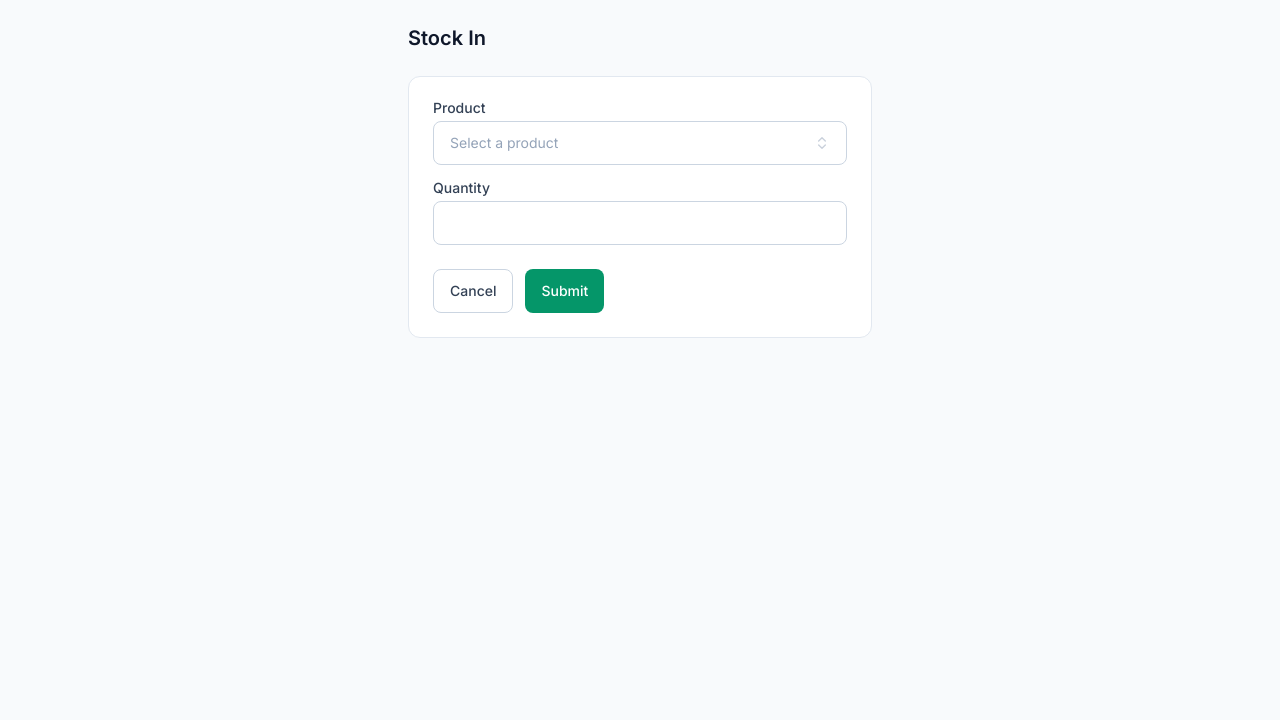
it: StockInPage › shows quantity validation error for zero value
Click the dropdown labelled "Select a product" at (504, 142), box [433,121,847,165]
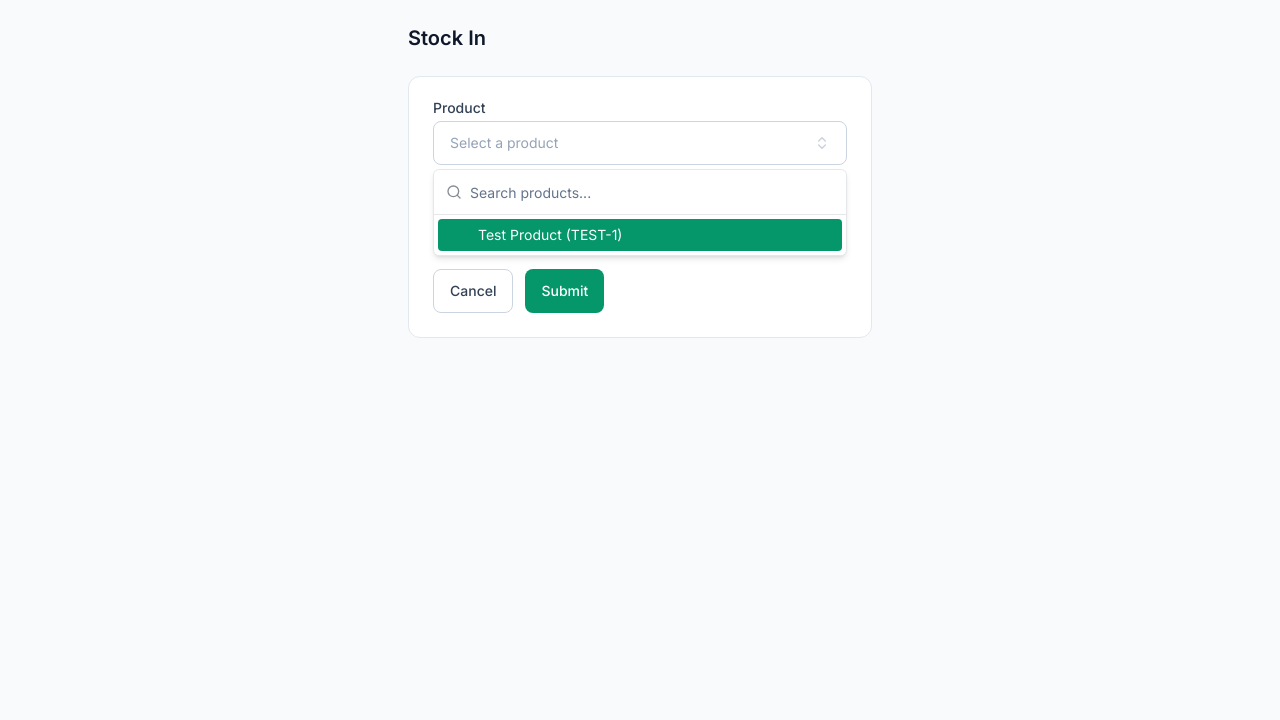
Click the option "Test Product (TEST-1)" at (550, 234), box [438,219,842,251]
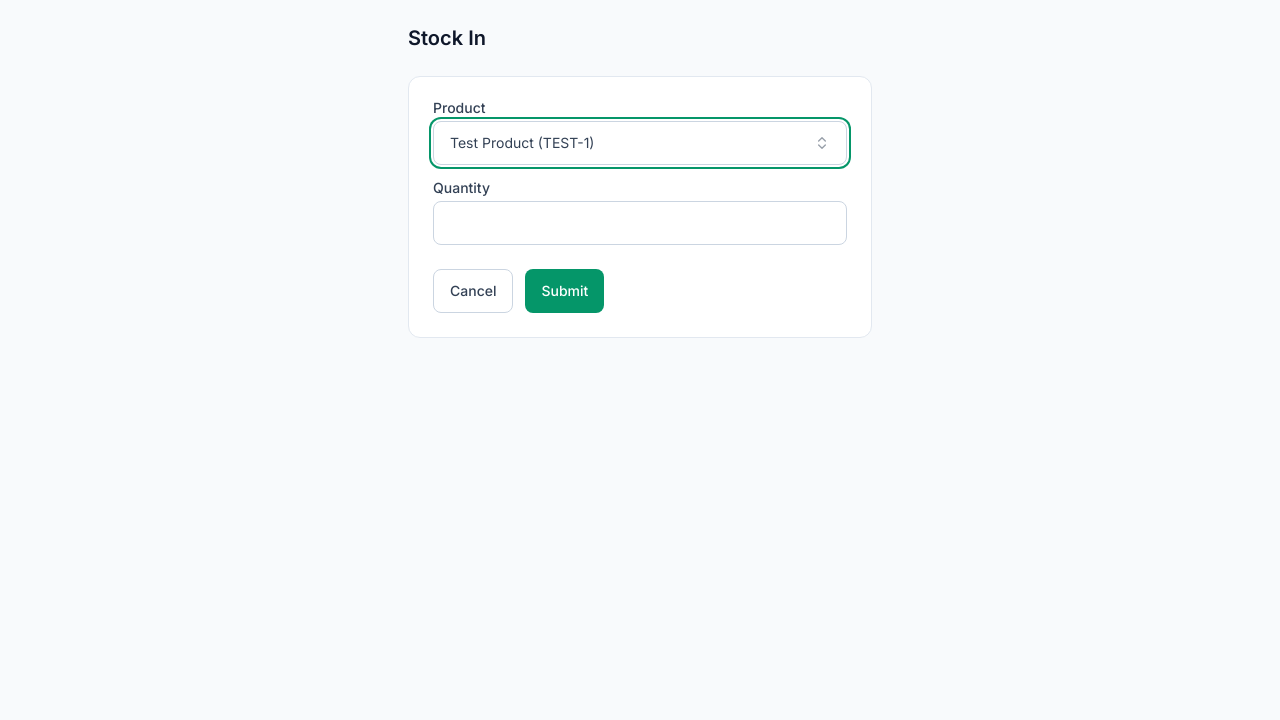
Type "0" into the number field labelled "Quantity" at (640, 223), box [433,201,847,245]
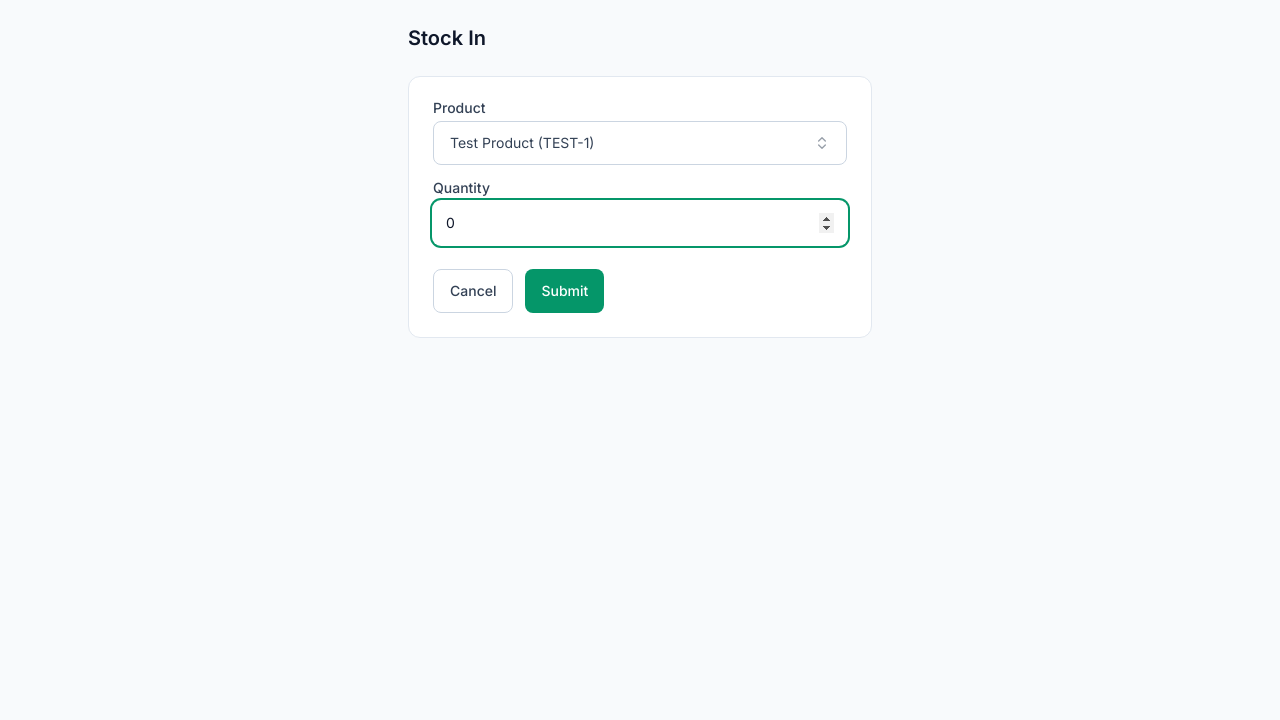
Click the button "Submit" at (565, 291), box [526,269,604,313]
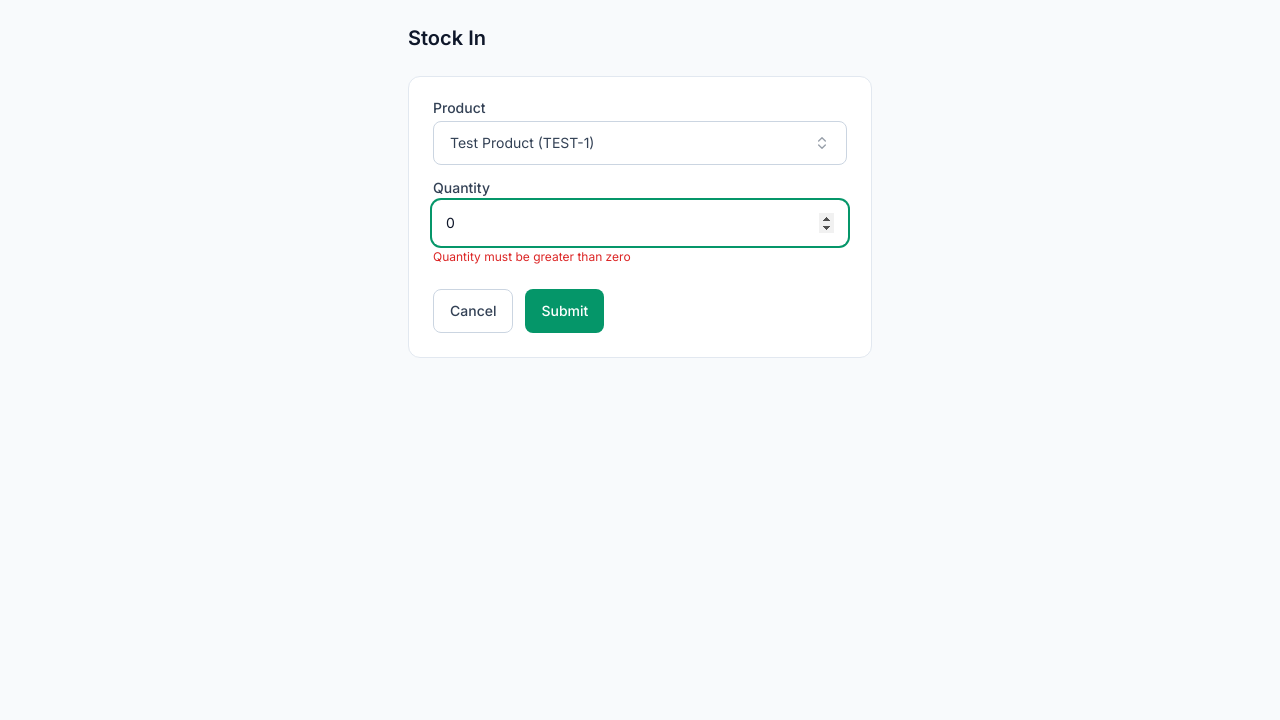
Check: the text "Quantity must be greater than zero" is shown, box [433,249,631,264]
